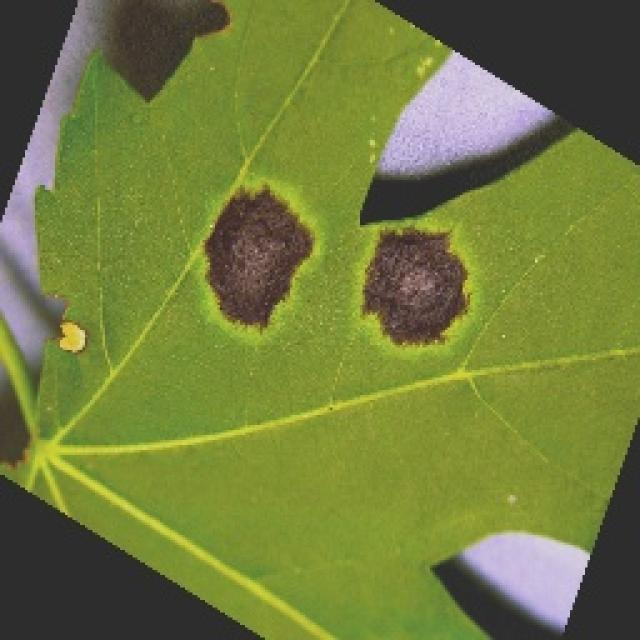Tar_Spot: (0, 0, 638, 638), (155, 126, 451, 396)
